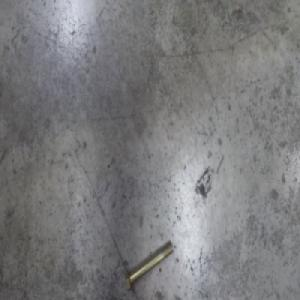Bolt: (124, 238, 174, 295)
